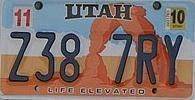placa de veiculo: (3, 0, 190, 96)
